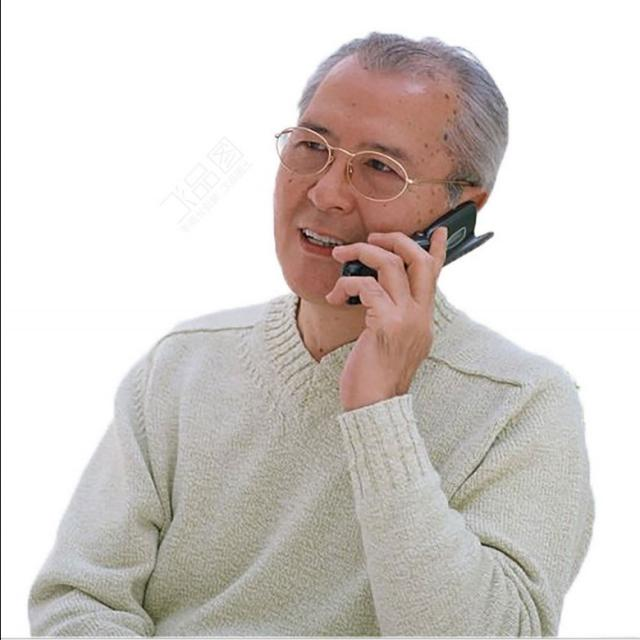phone: (332, 142, 492, 328)
